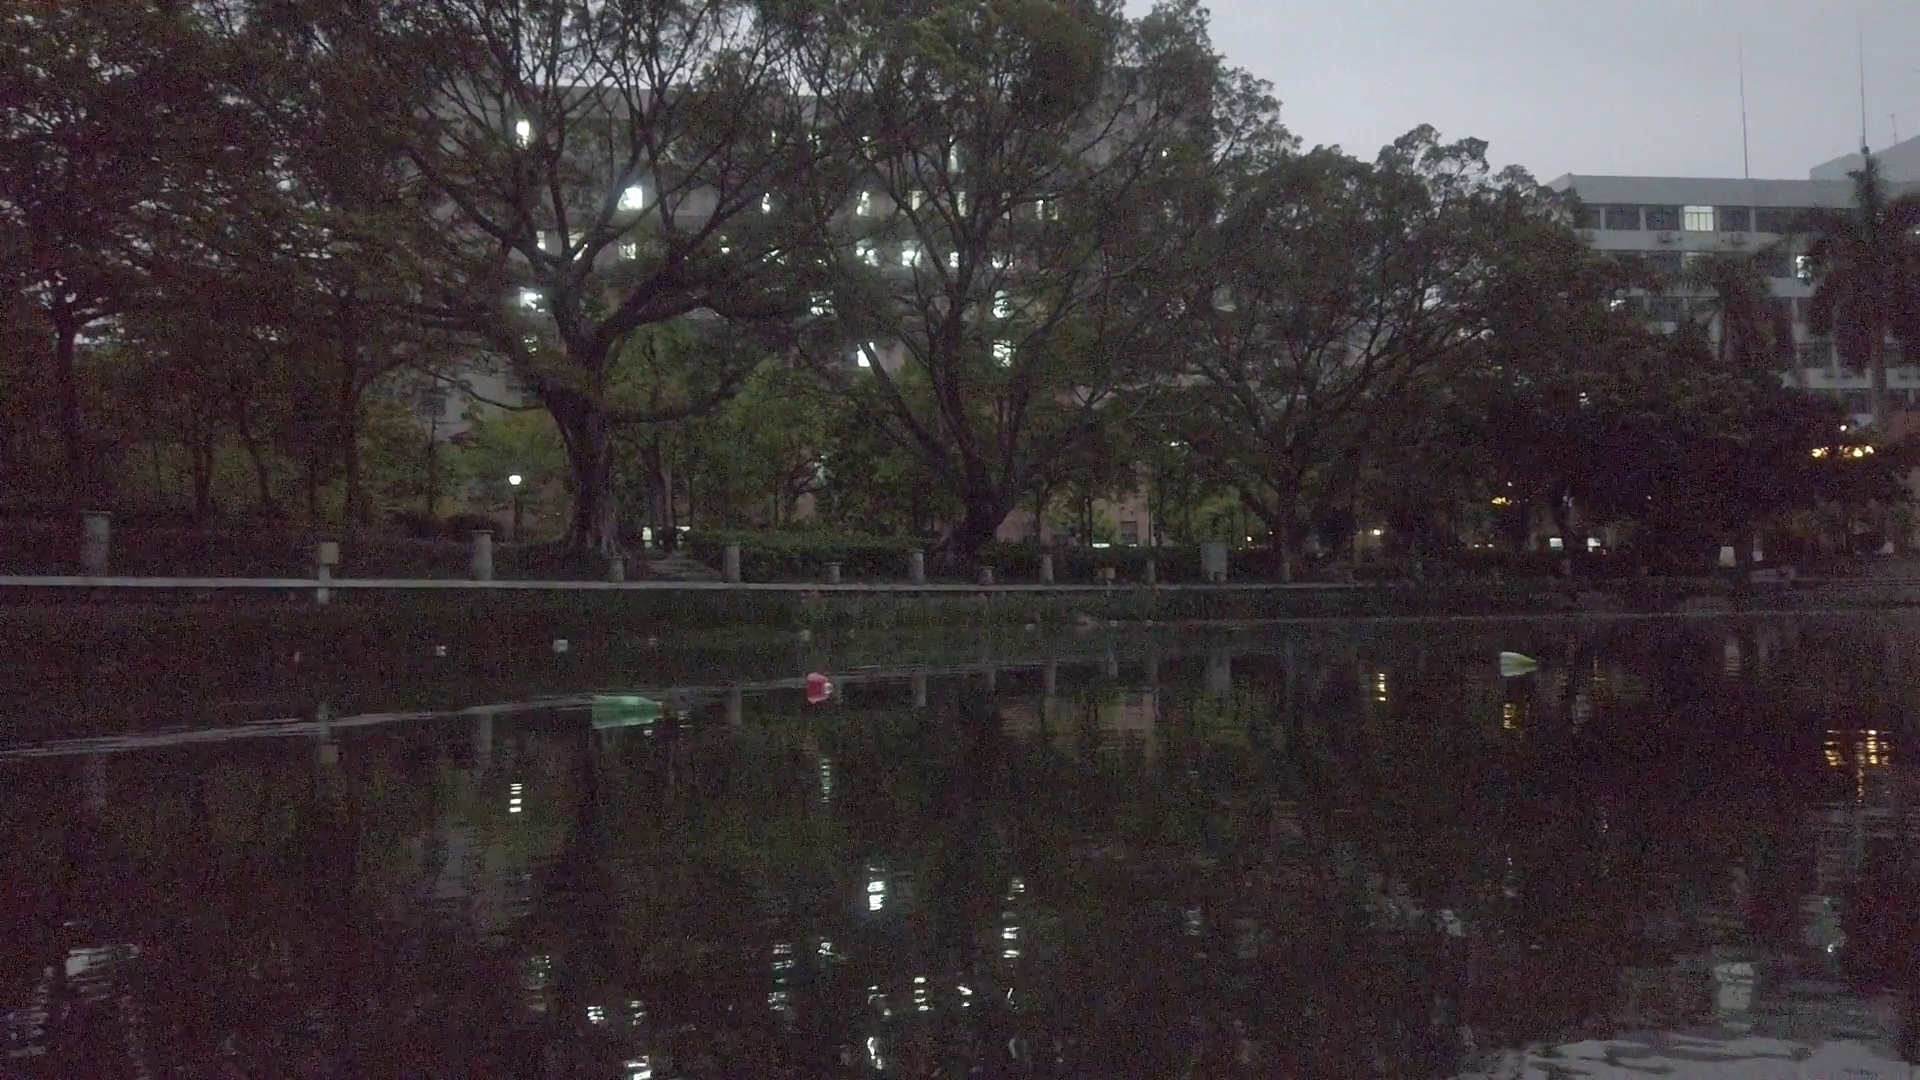bottle: (592, 694, 662, 717), (804, 673, 836, 695), (1499, 651, 1538, 669), (431, 638, 451, 659), (795, 624, 814, 640)
carton: (550, 637, 570, 651)
